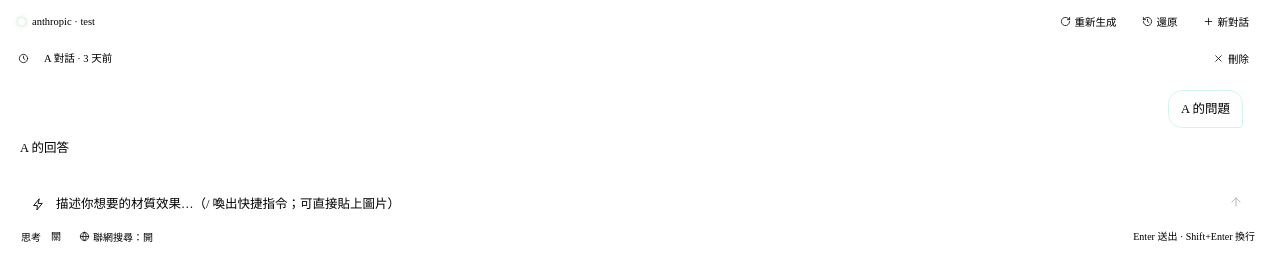
Test: AgentChat sessions (M7) › switching the session select replays the chosen transcript
Select "B 對話 · 3 天前" in the dropdown with class "agent-sess-sel". click: (616, 58)
box: [36, 50, 1197, 67]
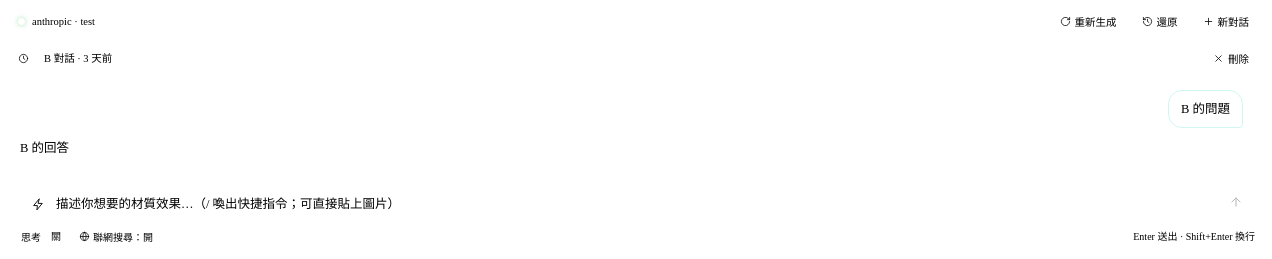
Expected: the text "B 的回答" is shown, [20, 141, 69, 155]
Expected: the text "A 的回答" is gone
